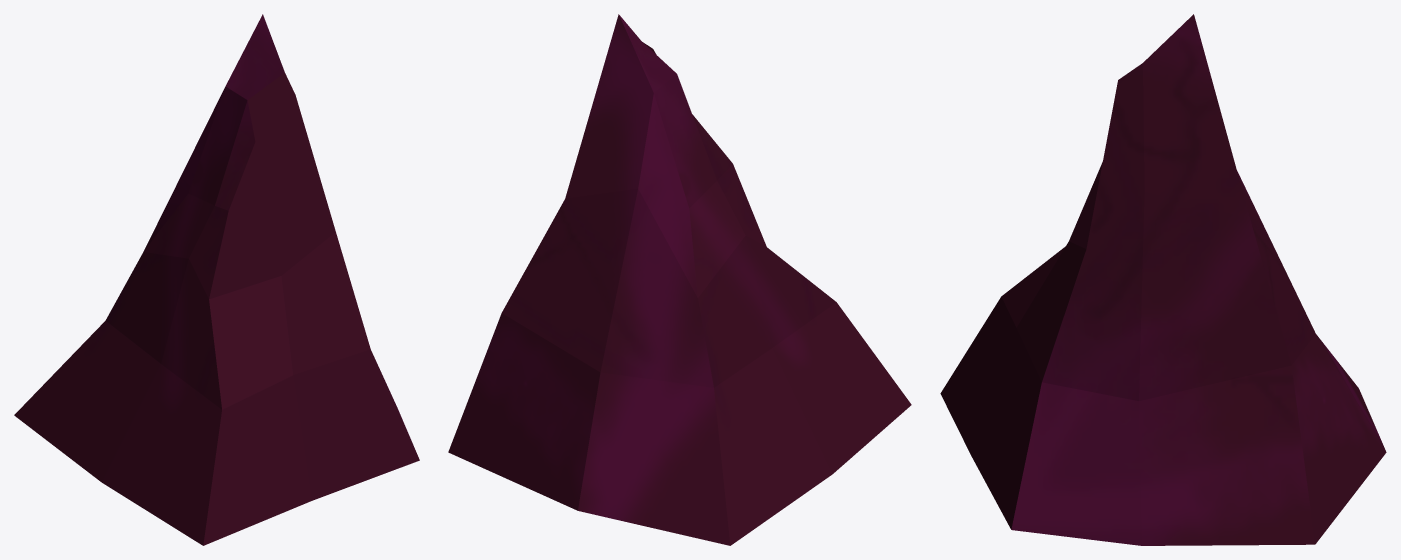
Rendered from GDW Rock Asset 1.fbx.
3 renders of one model, left to right at view 1: azimuth 30°, elevation 25°; view 2: azimuth 150°, elevation 25°; view 3: azimuth 270°, elevation 25°, orthographic. The views are drawn at different scales.
Parts seen in each view (by area): view 1: Stalagmite 1; view 2: Stalagmite 1; view 3: Stalagmite 1.
Boxes of the visible parts, bbox=[...] form: Stalagmite 1: bbox=[14, 14, 419, 545]; Stalagmite 1: bbox=[448, 14, 911, 545]; Stalagmite 1: bbox=[940, 14, 1386, 545].
Bounding box in the file's own units: 333 × 443 × 377.
Materials: 1 (1 with a texture image).
